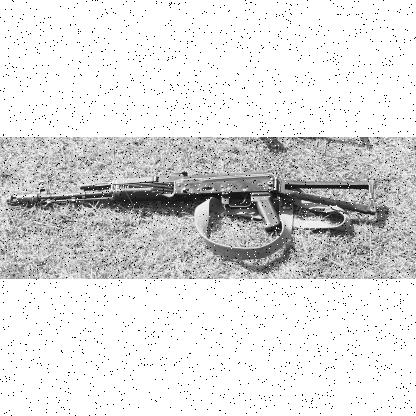gun: (5, 168, 375, 258)
